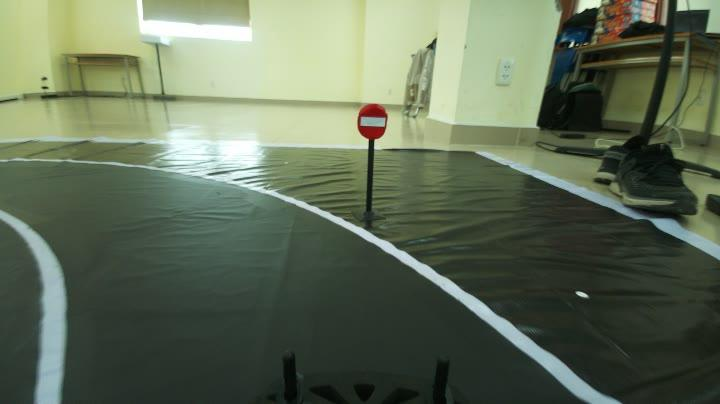no_entry: (348, 102, 392, 146)
